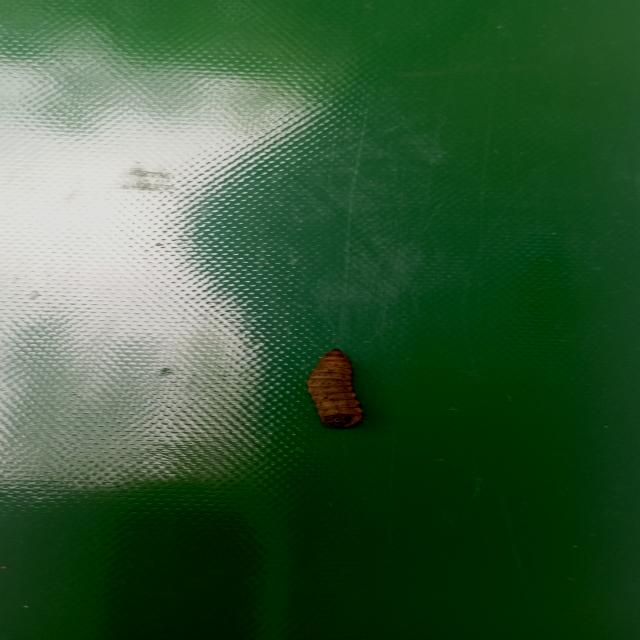Maggot: (307, 351, 366, 432)
